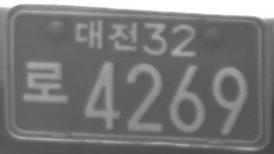2: (125, 61, 164, 134), (169, 23, 197, 58)
3: (142, 21, 168, 56)
4: (82, 59, 121, 130)
6: (168, 63, 207, 135)
9: (211, 64, 249, 136)
대전_O: (74, 19, 140, 52)
로: (22, 59, 69, 105)
